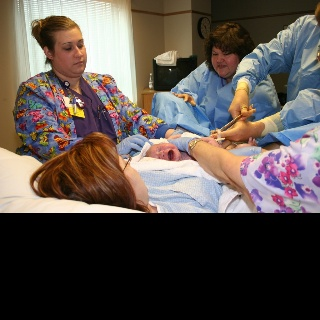without_mask: (53, 27, 85, 73)
